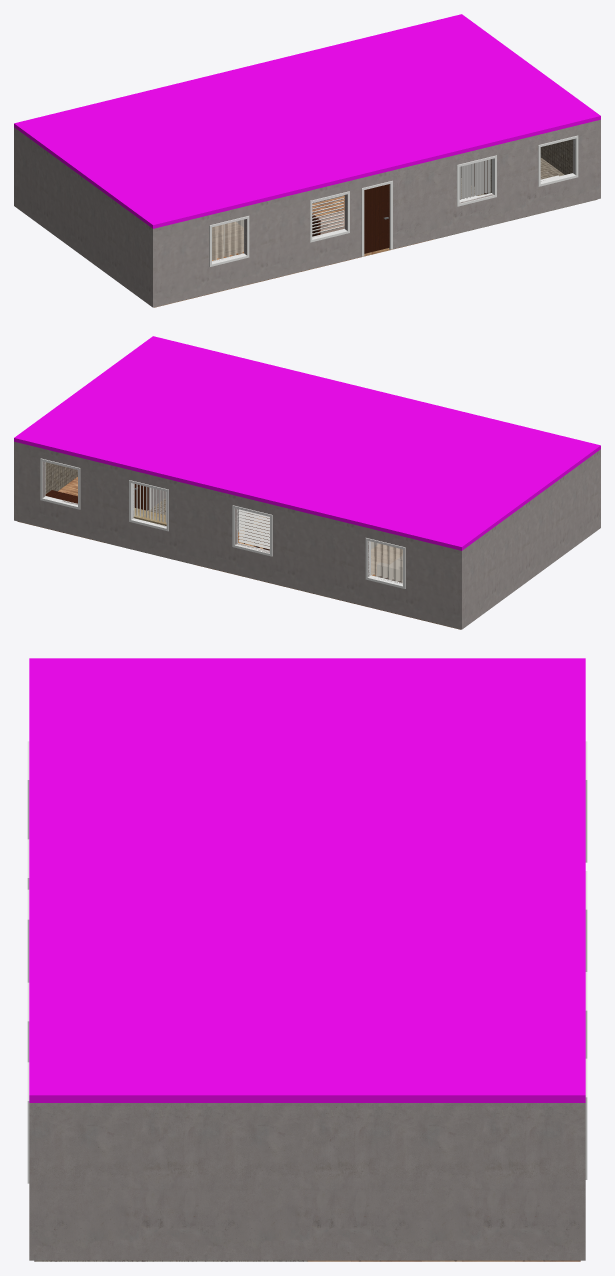
Rendered from sample-apartment.glb.
The picture shows the model from 3 angles, top to bottom: view 1: azimuth 30°, elevation 25°; view 2: azimuth 150°, elevation 25°; view 3: azimuth 270°, elevation 25°; orthographic projection. The views are drawn at different scales.
Parts seen in each view (by area): view 1: ceiling_shadow, wall_west, wall_bedroom_seg1, wall_bedroom_seg0, wall_kids_bedroom_seg2, wall_bathroom_2_seg0, wall_bathroom_2_seg1, wall_bathroom_1_seg1, wall_bathroom_1_seg0, front_door, wall_kids_bedroom_seg1, floor_bedroom (+9 smaller); view 2: ceiling_shadow, wall_west, wall_living_room_seg0, wall_living_room_seg1, wall_dining_seg1, wall_dining_seg0, wall_office_seg1, wall_office_seg0, wall_kitchen_seg0, wall_kitchen_seg1, wall_dining_below0, wall_office_below0 (+7 smaller); view 3: ceiling_shadow, wall_east.
Boxes of the visible parts, <box> form: ceiling_shadow: <box>14,14,600,228</box>; wall_west: <box>14,127,157,307</box>; wall_bedroom_seg1: <box>244,192,302,284</box>; wall_bedroom_seg0: <box>155,215,211,306</box>; wall_kids_bedroom_seg2: <box>389,160,436,249</box>; wall_bathroom_2_seg0: <box>517,134,540,218</box>; wall_bathroom_2_seg1: <box>573,120,598,204</box>; wall_bathroom_1_seg1: <box>494,140,517,224</box>; wall_bathroom_1_seg0: <box>436,154,458,238</box>; front_door: <box>364,184,389,253</box>; wall_kids_bedroom_seg1: <box>345,177,363,260</box>; floor_bedroom: <box>154,222,301,307</box>; ceiling_shadow: <box>14,336,600,550</box>; wall_west: <box>457,449,600,629</box>; wall_living_room_seg0: <box>403,537,459,628</box>; wall_living_room_seg1: <box>312,514,369,606</box>; wall_dining_seg1: <box>193,485,237,574</box>; wall_dining_seg0: <box>270,504,311,592</box>; wall_office_seg1: <box>16,442,45,527</box>; wall_office_seg0: <box>78,457,104,542</box>; wall_kitchen_seg0: <box>167,479,193,564</box>; wall_kitchen_seg1: <box>105,464,133,548</box>; wall_dining_below0: <box>235,543,270,582</box>; wall_office_below0: <box>42,500,78,535</box>; ceiling_shadow: <box>29,658,585,1102</box>; wall_east: <box>29,1103,585,1260</box>.
Size of the model in its own units: 15.15 by 2.72 by 8.2.
26 materials, 15 textured.
